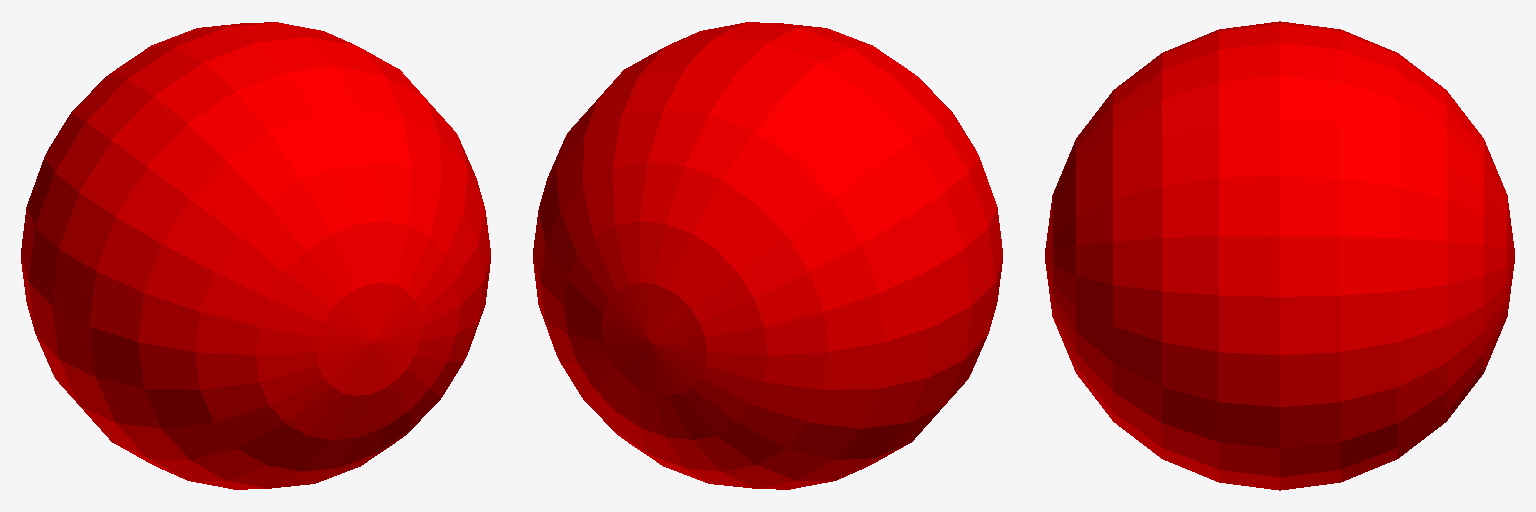
3 renders of one model, left to right at view 1: azimuth 30°, elevation 25°; view 2: azimuth 150°, elevation 25°; view 3: azimuth 270°, elevation 25°, orthographic.
Parts seen in each view (by area): view 1: solid1_4, top__3_1_5; view 2: solid1_4, top__3_1_5; view 3: solid1_4, top__3_1_5.
Part boxes in pixels (left/top/right/bottom): solid1_4: left=21, top=23, right=490, bottom=488; top__3_1_5: left=156, top=22, right=355, bottom=107; solid1_4: left=533, top=23, right=1002, bottom=488; top__3_1_5: left=668, top=22, right=867, bottom=107; solid1_4: left=1045, top=21, right=1514, bottom=490; top__3_1_5: left=1180, top=22, right=1379, bottom=107.
Bounding box in the file's own units: 2.25 × 2.25 × 2.25.